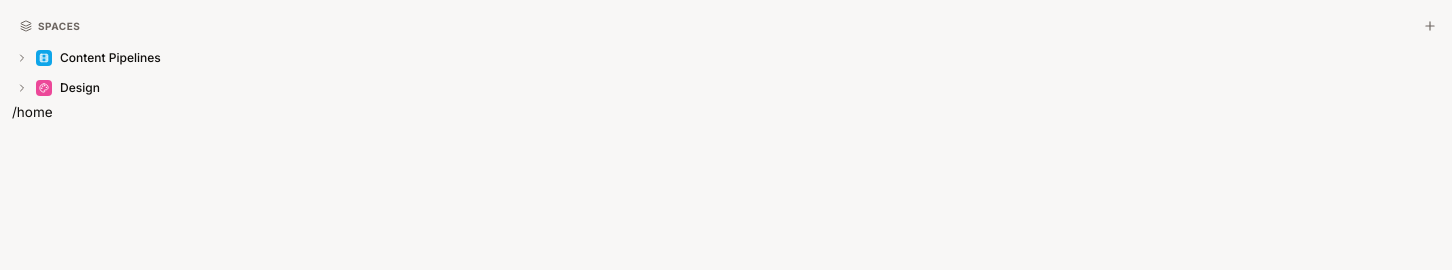
Scenario: SpacesTree: hierarchy and navigation › shows empty folders and empty spaces honestly
Expected: the text "Content Pipelines" is shown, left=60, top=50, right=161, bottom=66
Click the button named "Expand Content Pipelines".
click(22, 58)  # box left=12, top=46, right=32, bottom=70
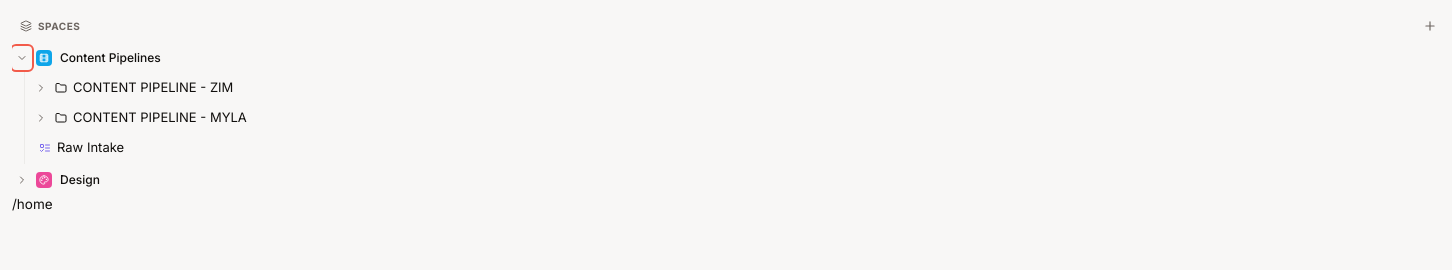
Click the button named "Expand CONTENT PIPELINE - MYLA".
click(41, 118)  # box left=31, top=106, right=51, bottom=130
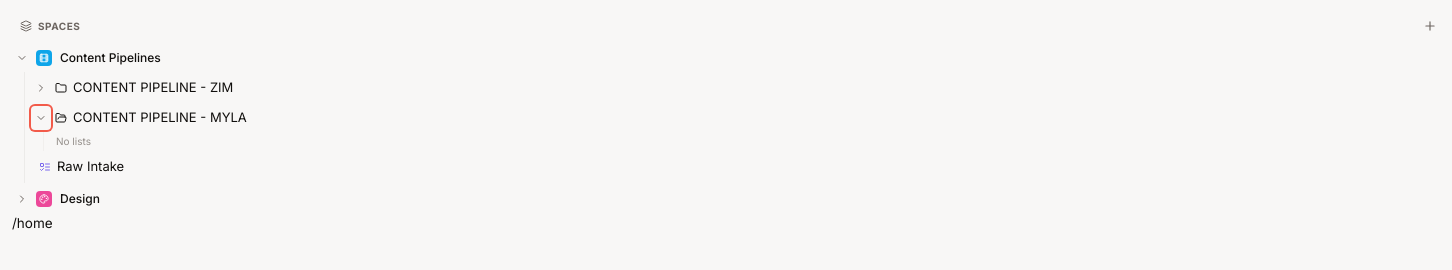
Expected: the list item "No lists" is shown, left=56, top=135, right=91, bottom=147
Click the button named "Expand Design".
click(22, 199)  # box left=12, top=187, right=32, bottom=211
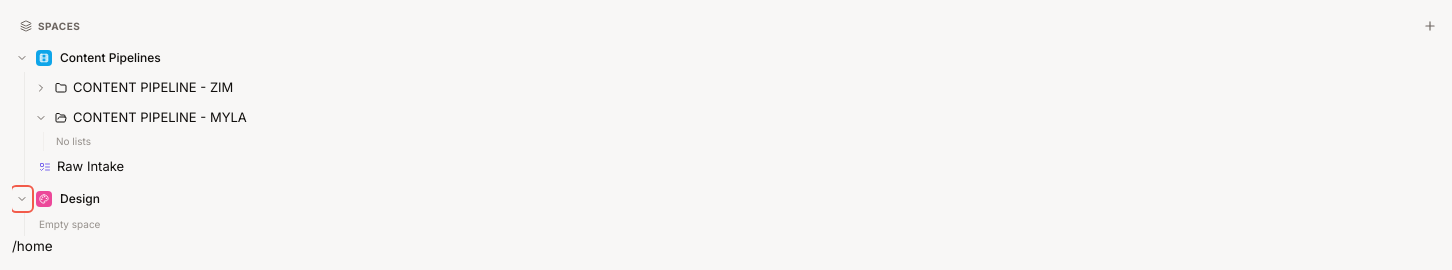
Expected: the list item "Empty space" is shown, left=39, top=218, right=100, bottom=230
